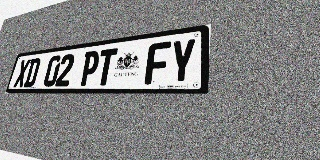0: (42, 55, 62, 87)
2: (55, 53, 76, 86)
D: (23, 58, 41, 87)
F: (144, 41, 171, 85)
P: (79, 50, 101, 86)
T: (95, 48, 118, 86)
X: (13, 59, 31, 87)
Y: (168, 38, 196, 84)
